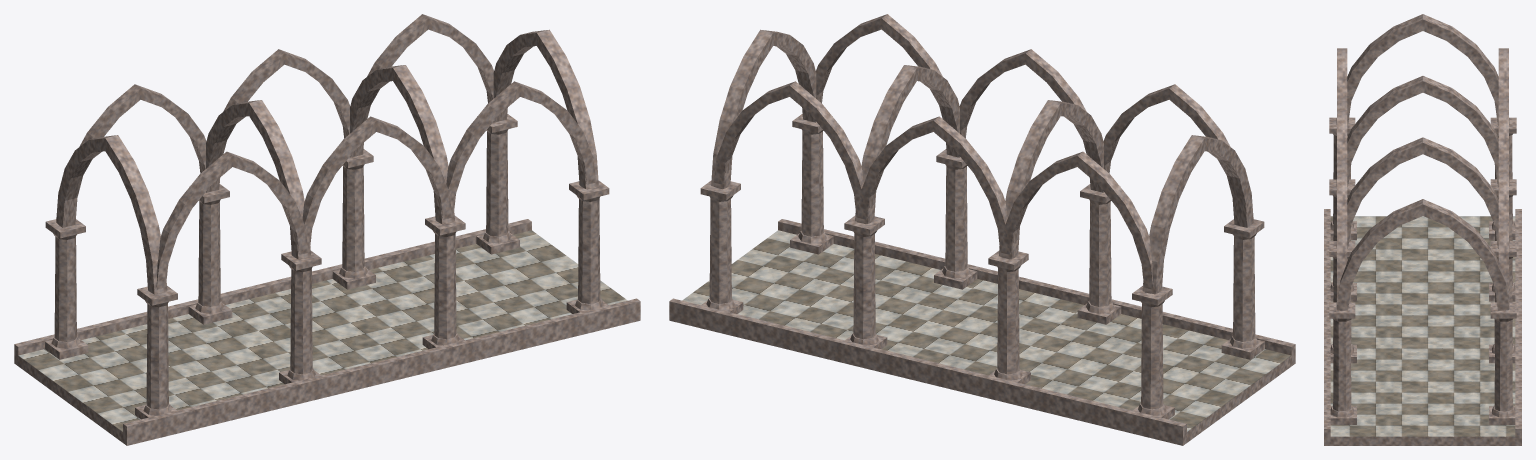
The model's file is ArcadeBridge_01.glb.
The picture shows the model from 3 angles, left to right: view 1: azimuth 30°, elevation 25°; view 2: azimuth 150°, elevation 25°; view 3: azimuth 270°, elevation 25°; orthographic projection. The views are drawn at different scales.
Parts seen in each view (by area): view 1: Bridge_Deck_Watertight, Bridge_Side_Point_Arcade_1, Bridge_Side_Point_Arcade_2, Bridge_Low_Stone_Edge_-1.835, Bridge_Transverse_Point_Arch_1, Bridge_Low_Stone_Edge_+1.835, Bridge_Transverse_Point_Arch_4, Bridge_Transverse_Point_Arch_2, Bridge_Transverse_Point_Arch_3, Bridge_Column_2_2_Octagonal_Shaft, Bridge_Column_3_2_Octagonal_Shaft, Bridge_Column_4_2_Octagonal_Shaft (+5 smaller); view 2: Bridge_Deck_Watertight, Bridge_Side_Point_Arcade_2, Bridge_Side_Point_Arcade_1, Bridge_Low_Stone_Edge_+1.835, Bridge_Transverse_Point_Arch_1, Bridge_Low_Stone_Edge_-1.835, Bridge_Transverse_Point_Arch_4, Bridge_Transverse_Point_Arch_2, Bridge_Transverse_Point_Arch_3, Bridge_Column_2_1_Octagonal_Shaft, Bridge_Column_3_1_Octagonal_Shaft, Bridge_Column_4_1_Octagonal_Shaft (+5 smaller); view 3: Bridge_Deck_Watertight, Bridge_Transverse_Point_Arch_4, Bridge_Transverse_Point_Arch_2, Bridge_Transverse_Point_Arch_3, Bridge_Transverse_Point_Arch_1, Bridge_Side_Point_Arcade_1, Bridge_Side_Point_Arcade_2, Bridge_Column_4_1_Octagonal_Shaft, Bridge_Column_4_2_Octagonal_Shaft, Bridge_Low_Stone_Edge_+1.835, Bridge_Low_Stone_Edge_-1.835, Bridge_Column_4_1_Square_Capital (+15 smaller).
Part boxes in pixels (box(x1,y1,x2,y2)): Bridge_Deck_Watertight: box(14, 230, 640, 445); Bridge_Side_Point_Arcade_1: box(156, 81, 596, 293); Bridge_Side_Point_Arcade_2: box(79, 14, 493, 173); Bridge_Low_Stone_Edge_-1.835: box(123, 298, 640, 434); Bridge_Transverse_Point_Arch_1: box(56, 135, 167, 294); Bridge_Low_Stone_Edge_+1.835: box(14, 219, 531, 355); Bridge_Transverse_Point_Arch_4: box(493, 29, 598, 188); Bridge_Transverse_Point_Arch_2: box(206, 100, 310, 259); Bridge_Transverse_Point_Arch_3: box(349, 65, 454, 224); Bridge_Column_2_2_Octagonal_Shaft: box(198, 201, 220, 306); Bridge_Column_3_2_Octagonal_Shaft: box(342, 166, 364, 271); Bridge_Column_4_2_Octagonal_Shaft: box(486, 131, 508, 236); Bridge_Deck_Watertight: box(669, 230, 1295, 445); Bridge_Side_Point_Arcade_2: box(713, 81, 1153, 293); Bridge_Side_Point_Arcade_1: box(816, 14, 1230, 173); Bridge_Low_Stone_Edge_+1.835: box(669, 298, 1186, 434); Bridge_Transverse_Point_Arch_1: box(1142, 135, 1253, 294); Bridge_Low_Stone_Edge_-1.835: box(778, 219, 1295, 355); Bridge_Transverse_Point_Arch_4: box(711, 29, 816, 188); Bridge_Transverse_Point_Arch_2: box(999, 100, 1103, 259); Bridge_Transverse_Point_Arch_3: box(855, 65, 960, 224); Bridge_Column_2_1_Octagonal_Shaft: box(1089, 201, 1111, 306); Bridge_Column_3_1_Octagonal_Shaft: box(945, 166, 967, 271); Bridge_Column_4_1_Octagonal_Shaft: box(801, 131, 823, 236); Bridge_Deck_Watertight: box(1324, 216, 1521, 445); Bridge_Transverse_Point_Arch_4: box(1336, 199, 1509, 310); Bridge_Transverse_Point_Arch_2: box(1336, 76, 1509, 187); Bridge_Transverse_Point_Arch_3: box(1336, 137, 1509, 248); Bridge_Transverse_Point_Arch_1: box(1336, 14, 1509, 125); Bridge_Side_Point_Arcade_1: box(1337, 48, 1347, 304); Bridge_Side_Point_Arcade_2: box(1498, 48, 1508, 304); Bridge_Column_4_1_Octagonal_Shaft: box(1333, 320, 1351, 411); Bridge_Column_4_2_Octagonal_Shaft: box(1494, 320, 1512, 411); Bridge_Low_Stone_Edge_+1.835: box(1515, 209, 1521, 436); Bridge_Low_Stone_Edge_-1.835: box(1324, 209, 1330, 436); Bridge_Column_4_1_Square_Capital: box(1329, 302, 1355, 318).
Bounding box in the file's own units: 10 × 4.8 × 3.8.
2 materials, 2 textured.
